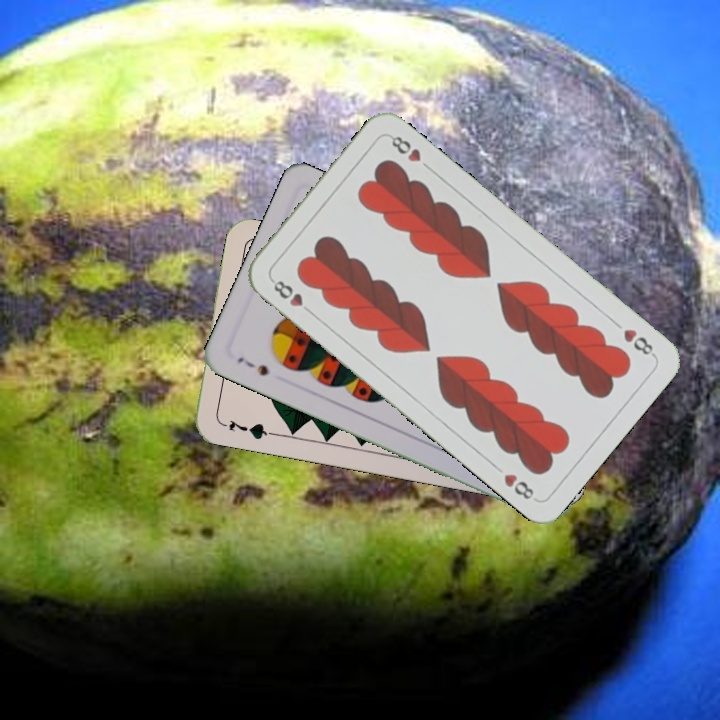G7: (216, 415, 275, 442)
H8: (267, 276, 316, 318), (619, 324, 658, 359)
S7: (233, 353, 271, 379)
